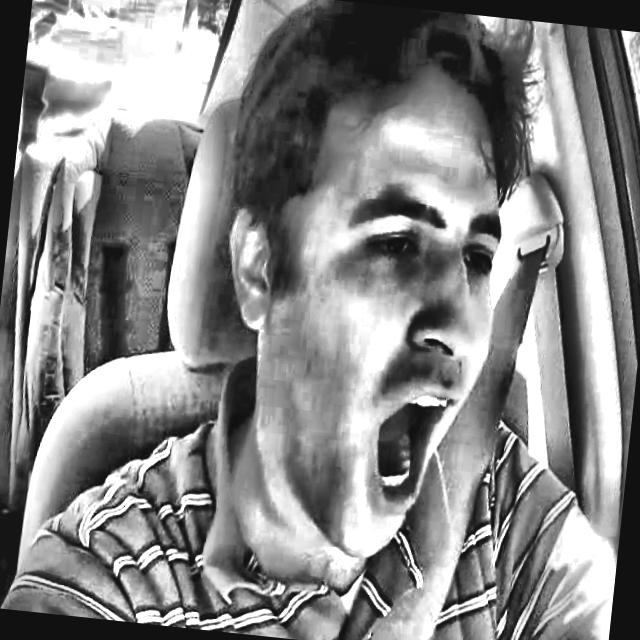open_mouth: (356, 375, 462, 540)
